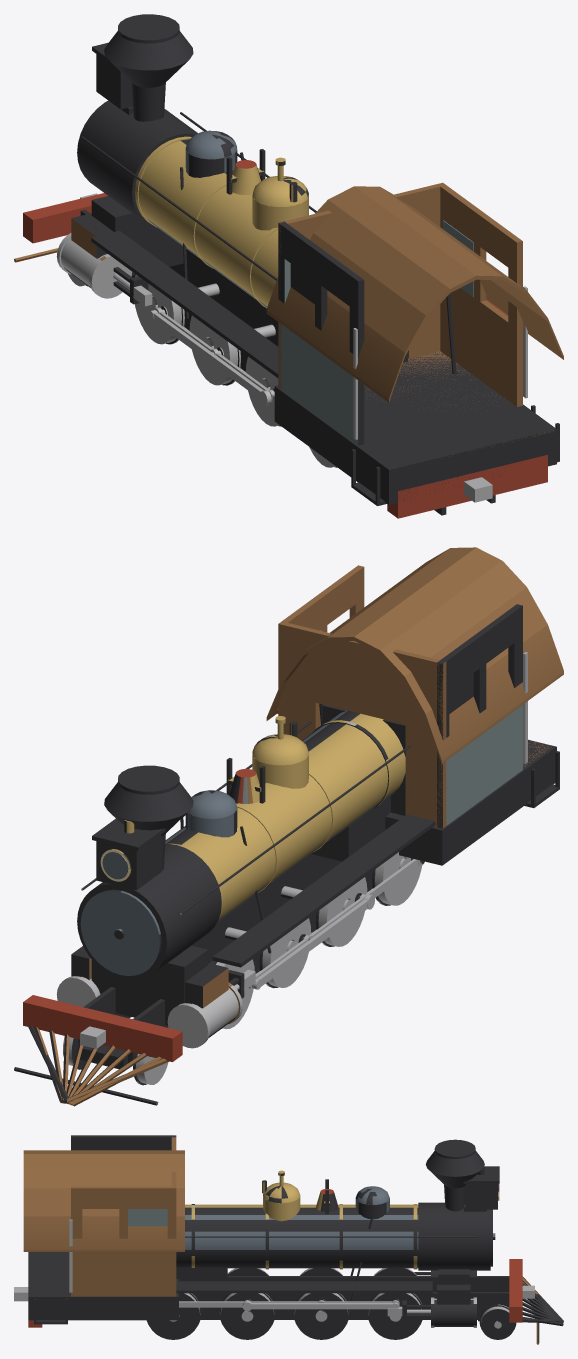
File: engine.glb
3 views of the same model, one above another, from view 1: azimuth 30°, elevation 25°; view 2: azimuth 150°, elevation 25°; view 3: azimuth 270°, elevation 25° (orthographic). The views are drawn at different scales.
Parts seen in each view (by area): view 1: Body, Driver1, Driver0, MainRodL, Driver2, SideRodL; view 2: Body, Driver1, Driver2, Driver3, MainRodL, SideRodL, Pony; view 3: Body, Driver2, Driver1, Driver0, Driver3, MainRodR, Pony, SideRodR.
Boxes of the visible parts, bbox=[...] form: Body: bbox=[14, 14, 563, 518]; Driver1: bbox=[189, 315, 275, 385]; Driver0: bbox=[135, 274, 219, 344]; MainRodL: bbox=[148, 310, 271, 405]; Driver2: bbox=[245, 356, 281, 426]; SideRodL: bbox=[154, 307, 274, 403]; Body: bbox=[14, 547, 563, 1106]; Driver1: bbox=[208, 918, 311, 988]; Driver2: bbox=[281, 877, 367, 946]; Driver3: bbox=[372, 852, 424, 905]; MainRodL: bbox=[252, 894, 374, 989]; SideRodL: bbox=[248, 859, 423, 989]; Pony: bbox=[63, 1037, 168, 1085]; Body: bbox=[14, 1135, 563, 1344]; Driver2: bbox=[219, 1268, 275, 1339]; Driver1: bbox=[293, 1268, 349, 1339]; Driver0: bbox=[367, 1268, 423, 1339]; Driver3: bbox=[146, 1293, 201, 1339]; MainRodR: bbox=[242, 1301, 398, 1311]; Pony: bbox=[479, 1304, 516, 1339]; SideRodR: bbox=[179, 1300, 399, 1307].
Bounding box in the file's own units: 2.44 × 3.49 × 9.66.
